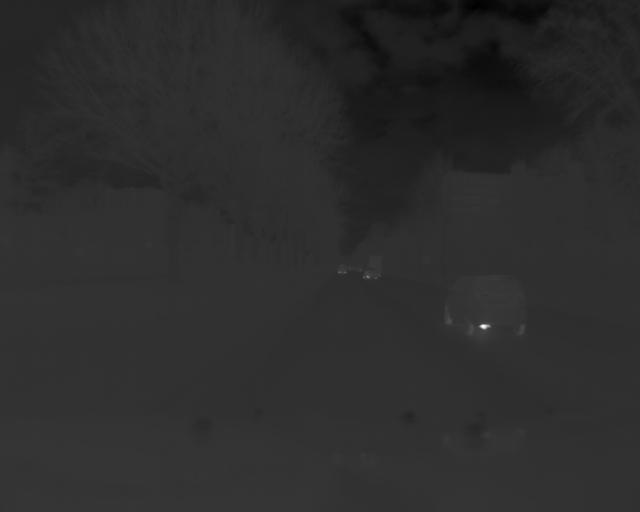car: (444, 273, 532, 340)
